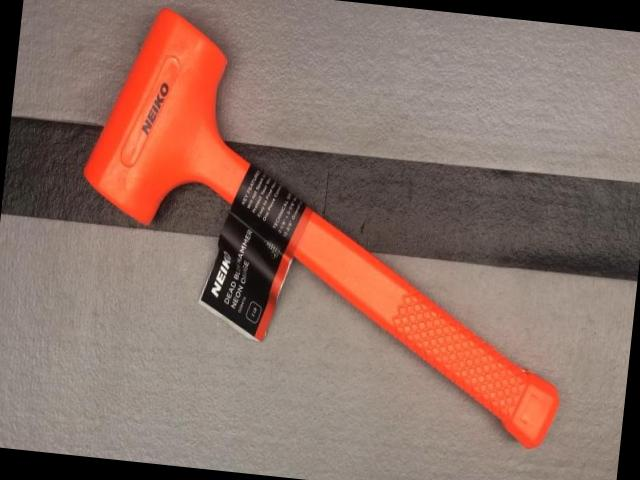hammer: (56, 1, 596, 450)
